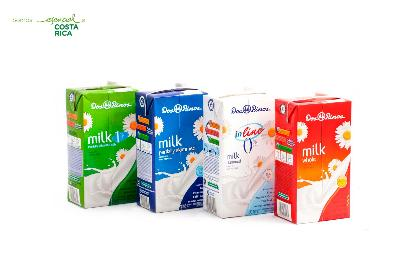Others: (272, 91, 354, 227), (62, 78, 136, 210), (136, 80, 208, 212), (202, 92, 274, 222)
